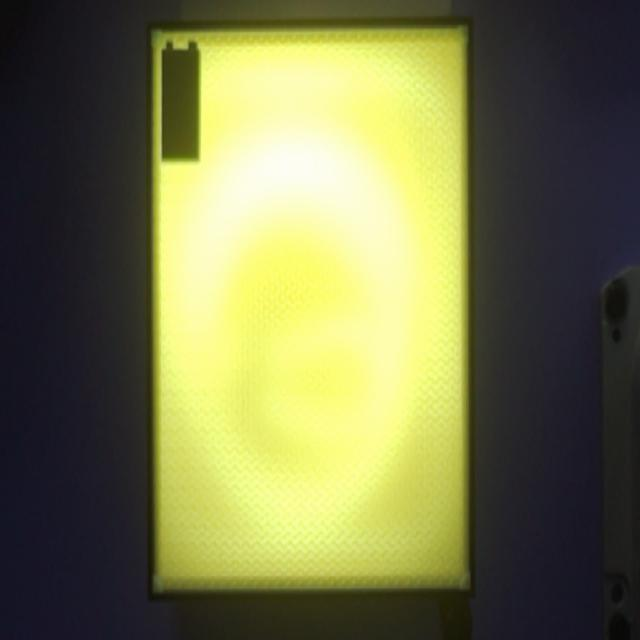bateria: (161, 41, 201, 161)
mesa: (147, 17, 474, 601)
